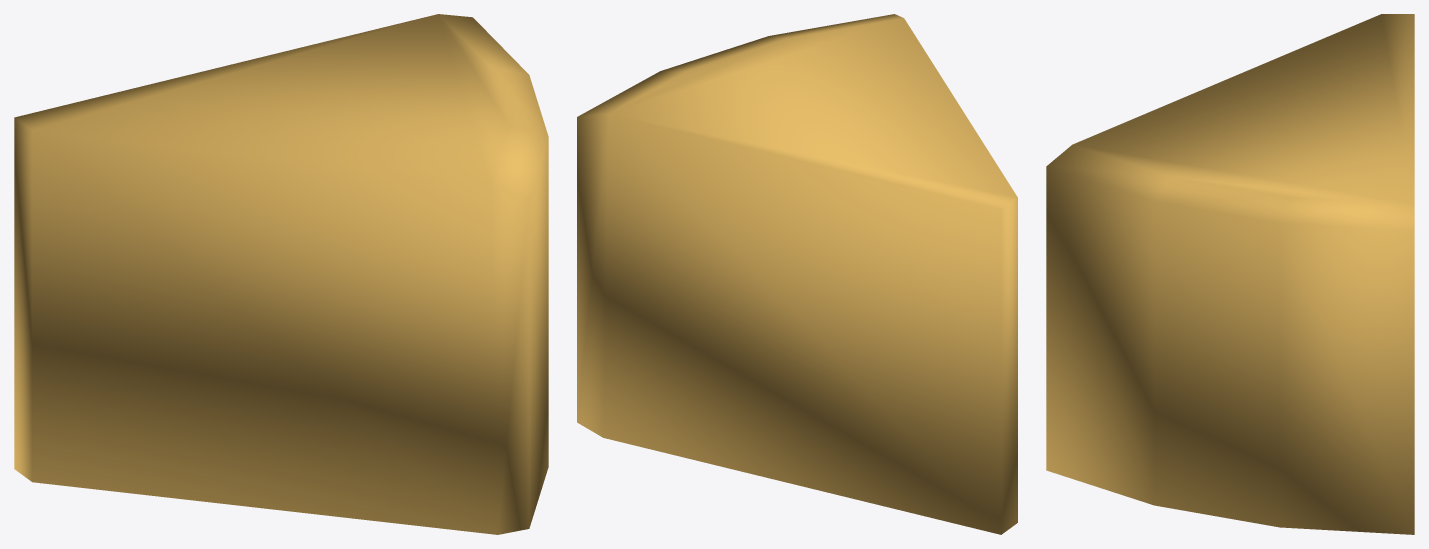
Rendered from SpicchioFormaFormaggio.fbx.
3 renders of one model, left to right at view 1: azimuth 30°, elevation 25°; view 2: azimuth 150°, elevation 25°; view 3: azimuth 270°, elevation 25°, orthographic. The views are drawn at different scales.
Parts seen in each view (by area): view 1: SpicchioFormaggio; view 2: SpicchioFormaggio; view 3: SpicchioFormaggio.
Boxes of the visible parts, box(x1,y1,x2,y2) form: SpicchioFormaggio: box(14, 14, 548, 534); SpicchioFormaggio: box(577, 14, 1017, 534); SpicchioFormaggio: box(1046, 14, 1414, 534).
Bounding box in the file's own units: 365 × 267 × 275.
